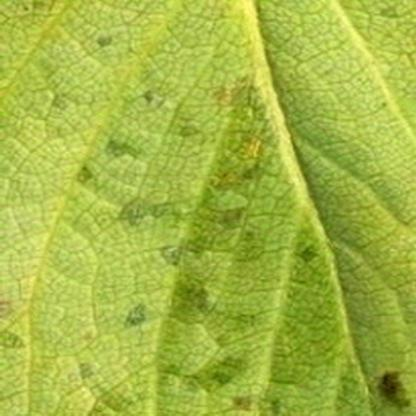Strawberry_Angular_LeafSpot: (0, 19, 415, 416)
